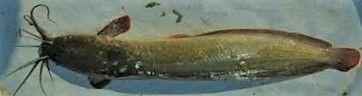Catfish: (13, 1, 362, 91)
